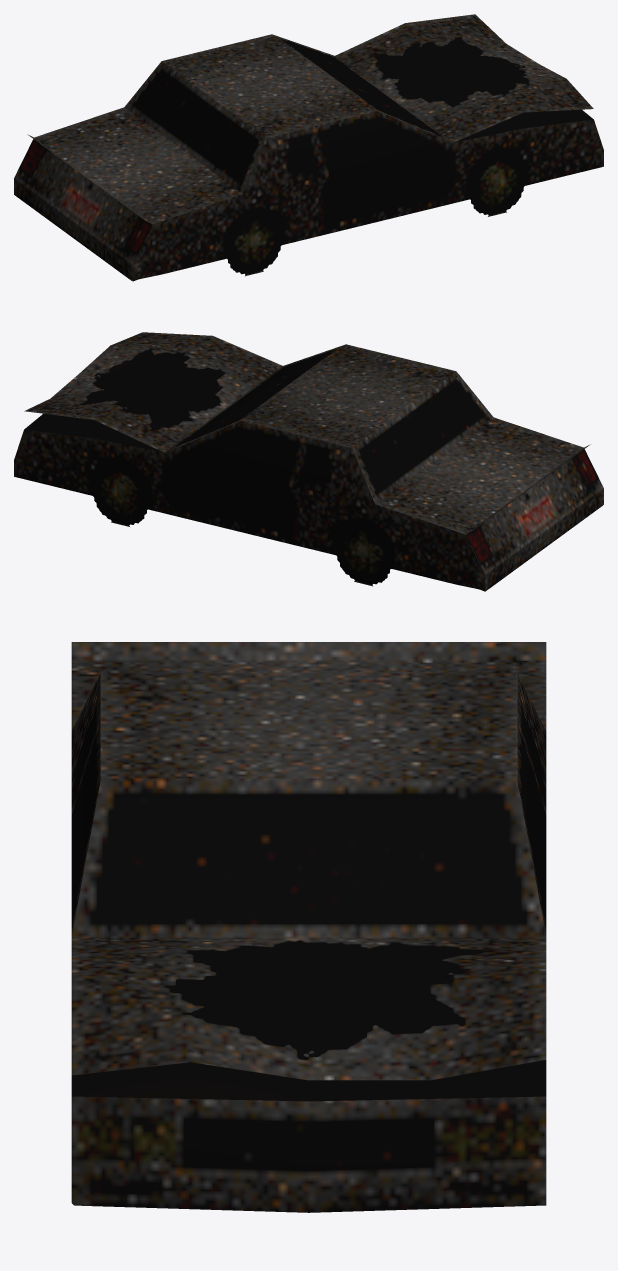
Rendered from carlod.obj.
3 views of the same model, one above another, from view 1: azimuth 30°, elevation 25°; view 2: azimuth 150°, elevation 25°; view 3: azimuth 270°, elevation 25° (orthographic). The views are drawn at different scales.
Parts seen in each view (by area): view 1: PRLD_NTM.002; view 2: PRLD_NTM.002; view 3: PRLD_NTM.002.
Part boxes in pixels (bbox=[...]): PRLD_NTM.002: bbox=[14, 14, 603, 281]; PRLD_NTM.002: bbox=[14, 332, 603, 591]; PRLD_NTM.002: bbox=[71, 642, 546, 1212].
Bounding box in the file's own units: 191 × 48.3 × 82.
